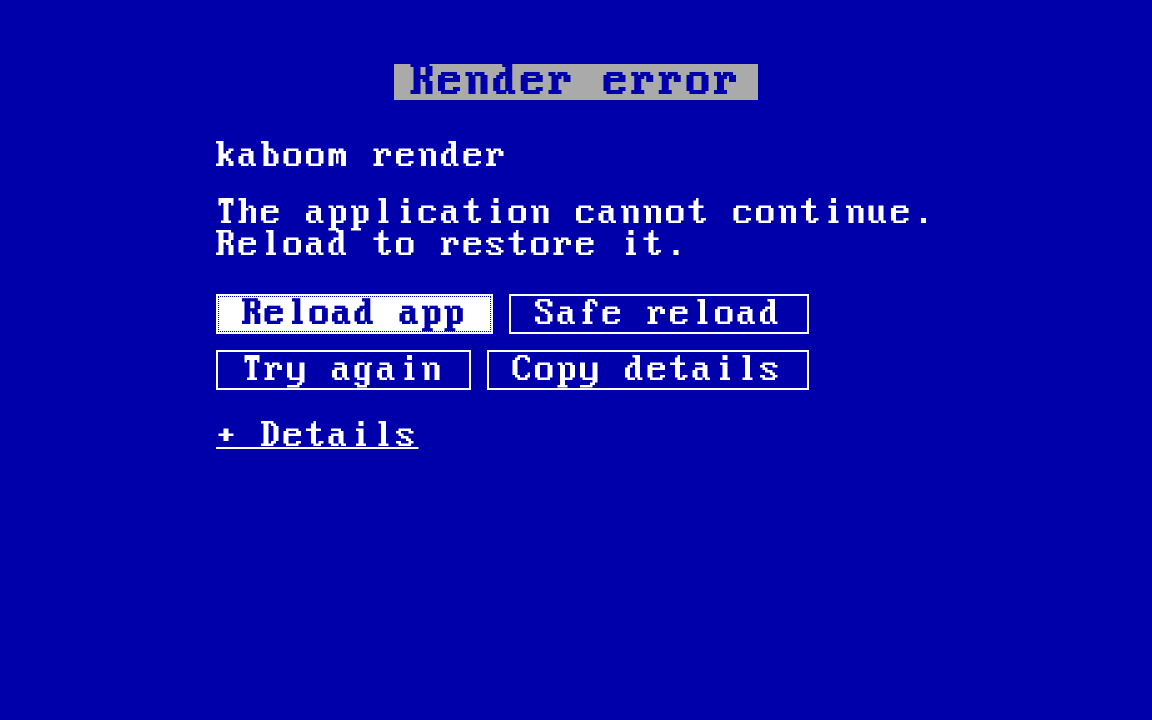
Scenario: ErrorBoundary fatal contract › retries once and then allows only reload
Click the button "Try again": (343, 370) [216,350,470,390]
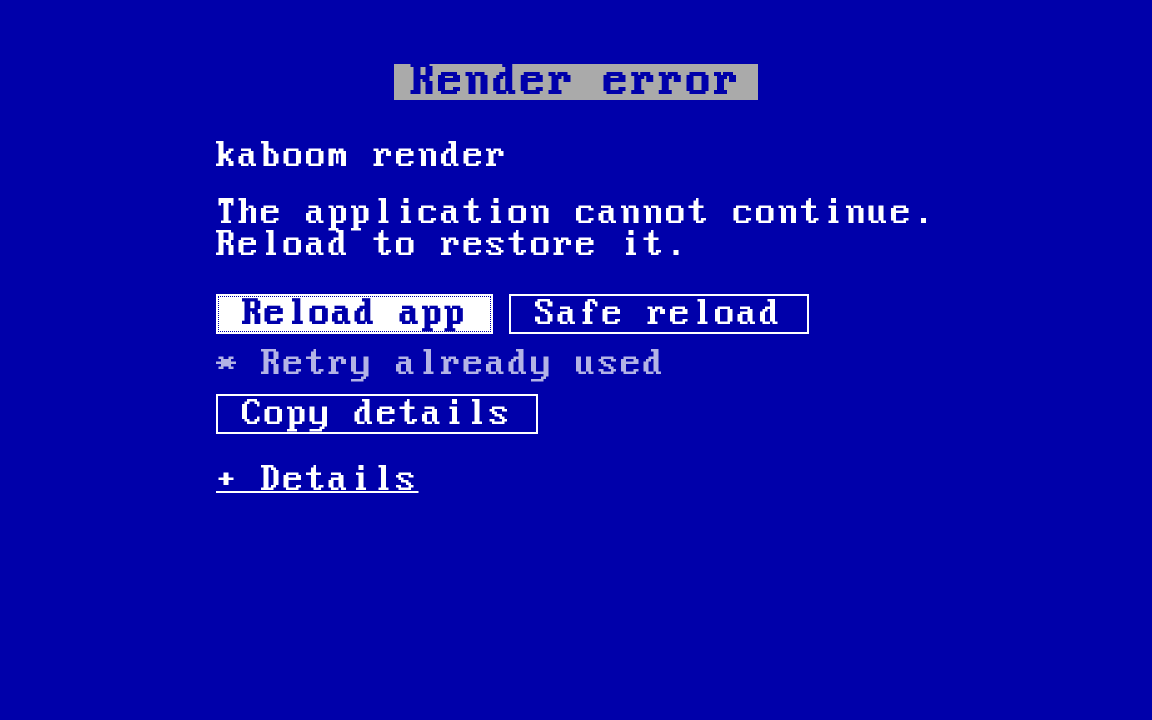
Expected: the text "kaboom render" is shown, [216,146,508,166]
Now the button "Try again" is gone
